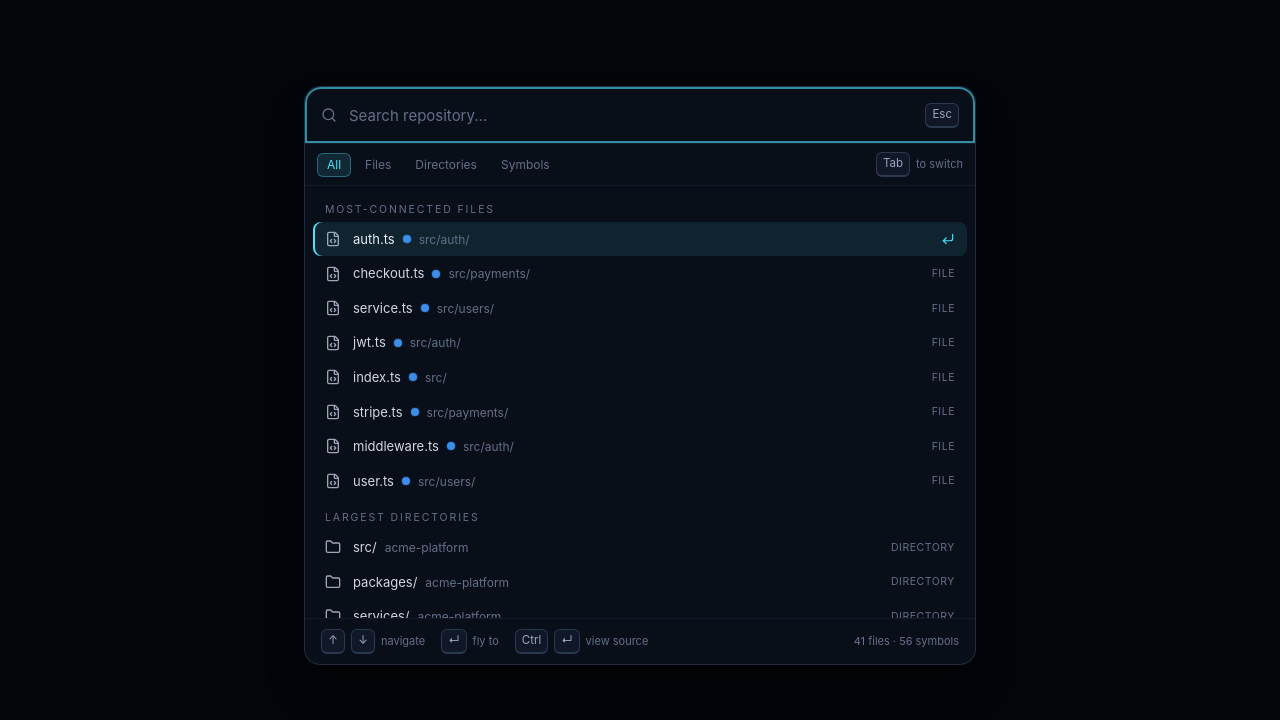
Test: SearchPalette › cycles filters with Tab and Shift+Tab without losing input focus
Type "auth" into the dropdown at (631, 115), box [349,87,913,143]
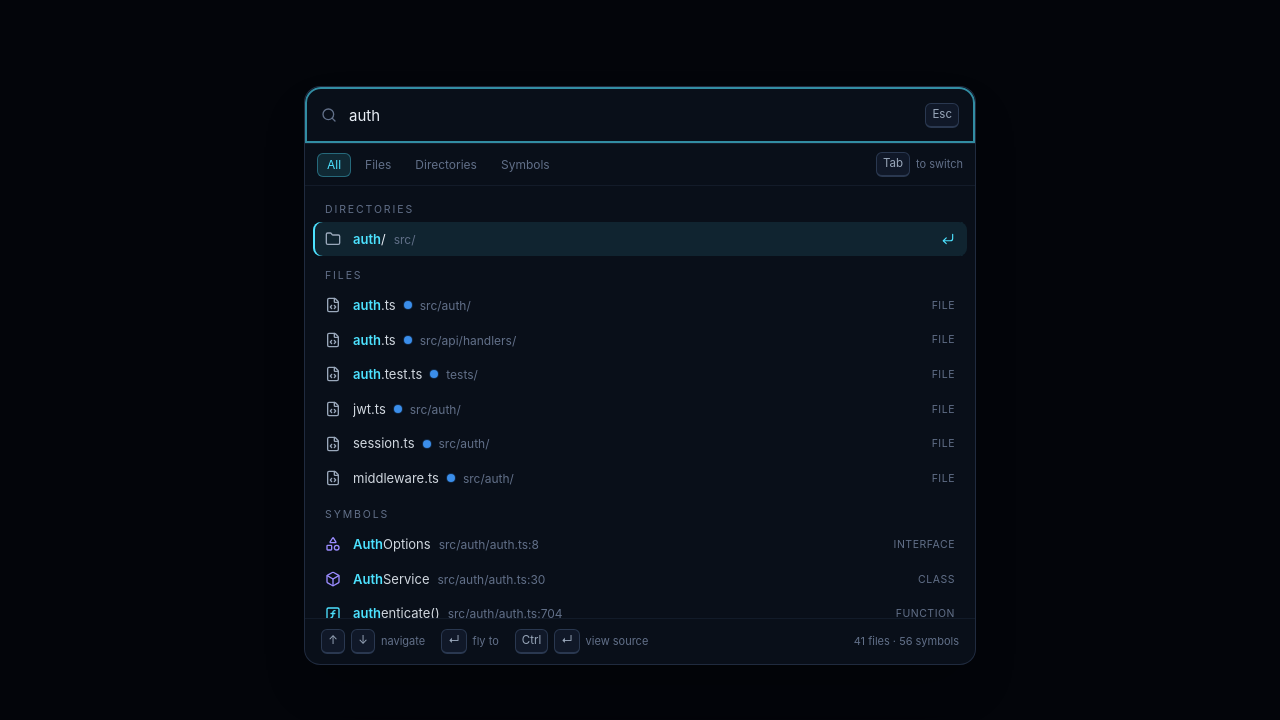
Press Tab
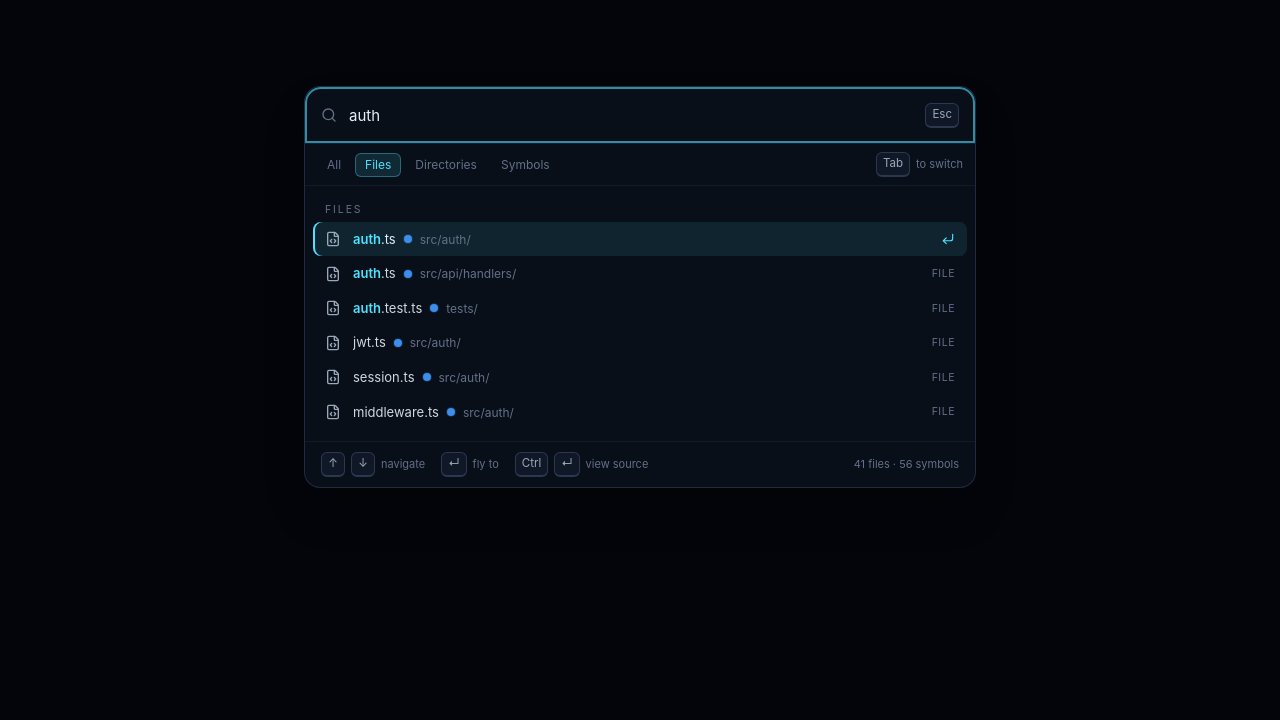
Result: the button "Files" is pressed at [355,153,401,177]
Press Tab
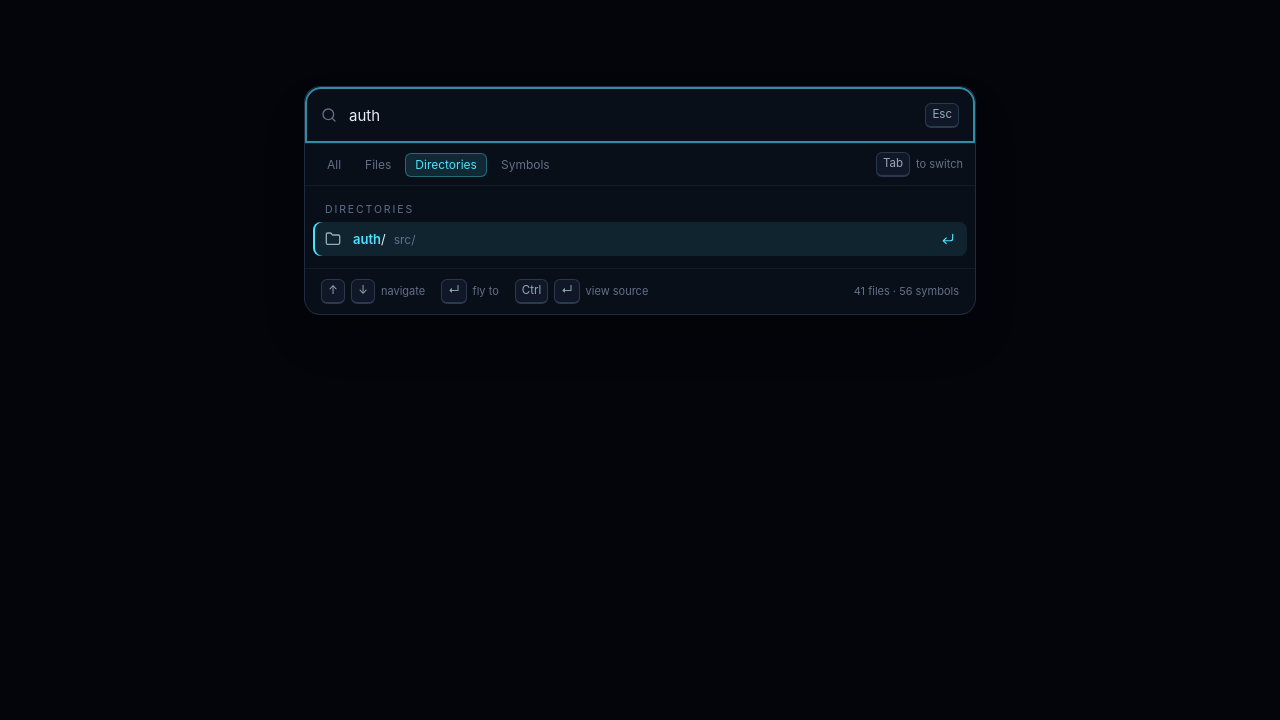
Result: the button "Directories" is pressed at [405,153,487,177]
Type keys "{Shift>}{Tab}{Tab}{Tab}{/Shift}"
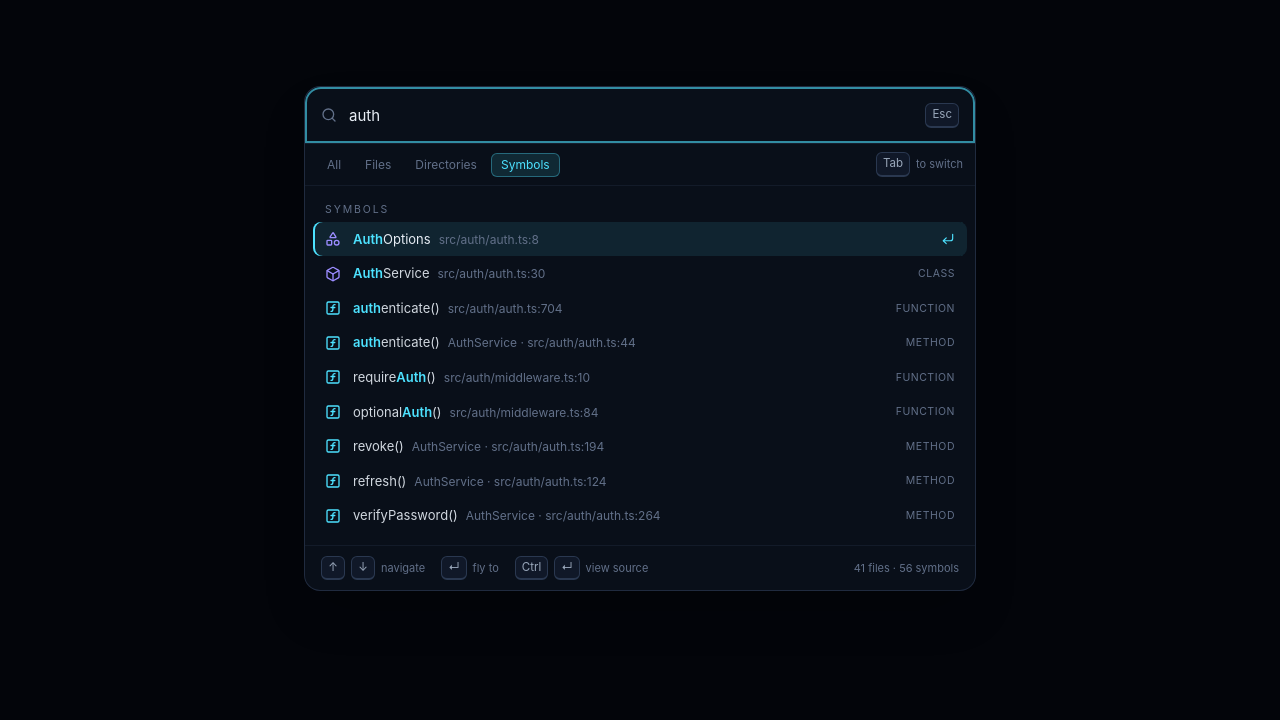
Result: the option "AuthOptions src/auth/auth.ts:8" is shown at [313,222,967,256]
